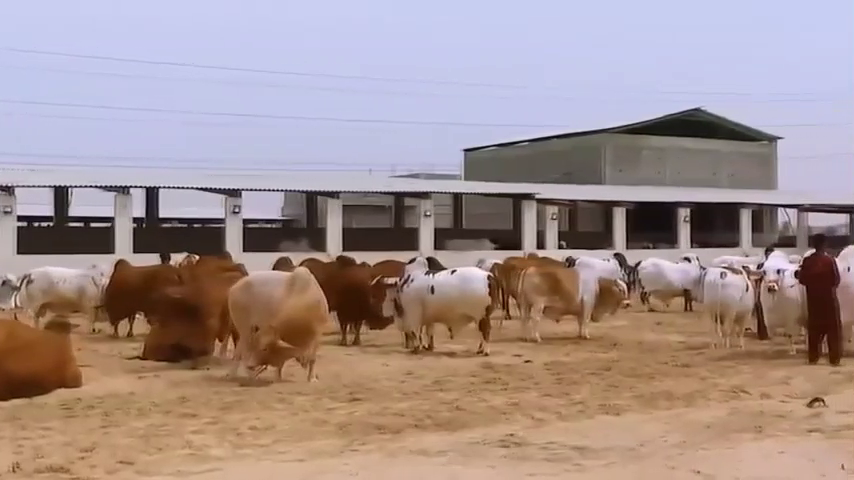bo: (506, 249, 632, 359), (224, 264, 327, 379), (386, 264, 497, 357), (90, 244, 195, 335), (140, 274, 217, 379), (17, 257, 119, 333), (315, 254, 391, 353), (684, 251, 747, 349), (627, 236, 703, 316), (2, 317, 82, 392), (761, 237, 802, 356), (834, 232, 852, 343), (2, 266, 16, 312)
